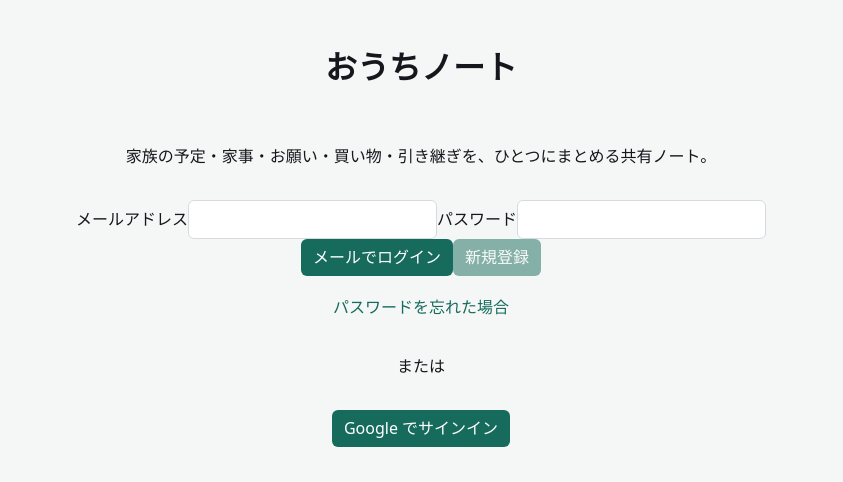
SignIn email/password auth › explains invalid_credentials without advancing the signed-in screen
The width and height of the screenshot is (843, 482).
In the field labelled "メールアドレス": (312, 220) [188,200,437,239], type "mama@example.com"
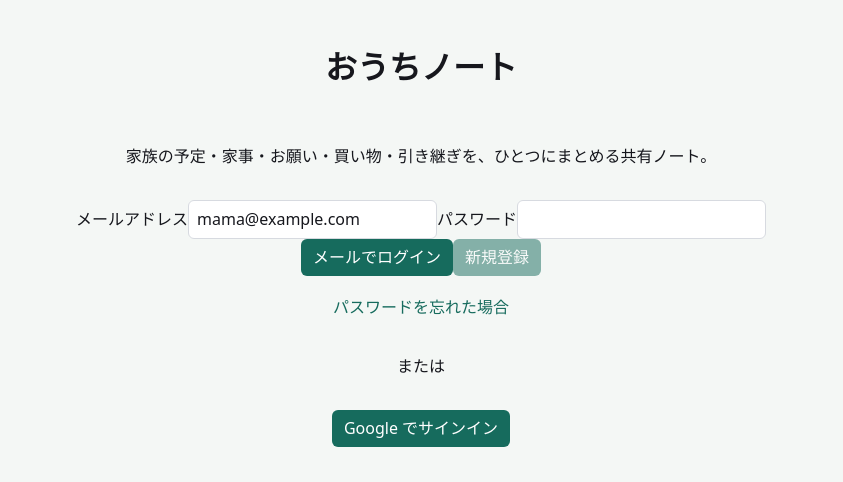
In the password field labelled "パスワード": (642, 220) [517,200,766,239], type "secret12"
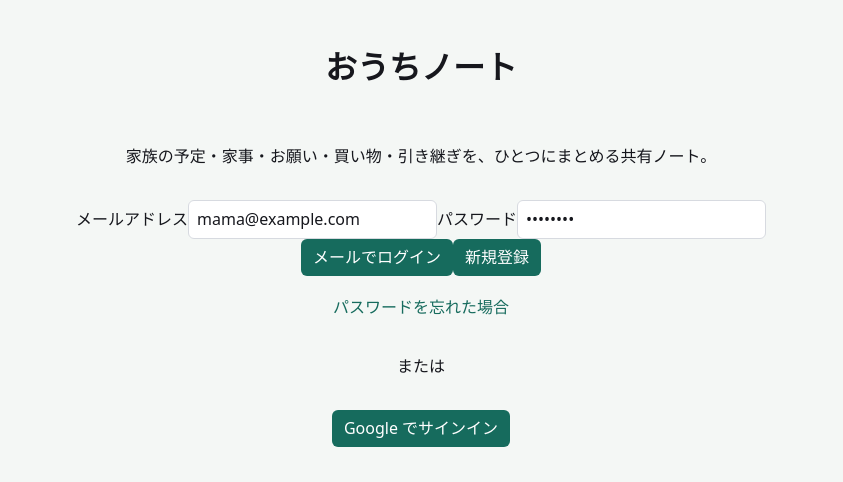
Click the button "メールでログイン": click(377, 257) [301,239,453,276]
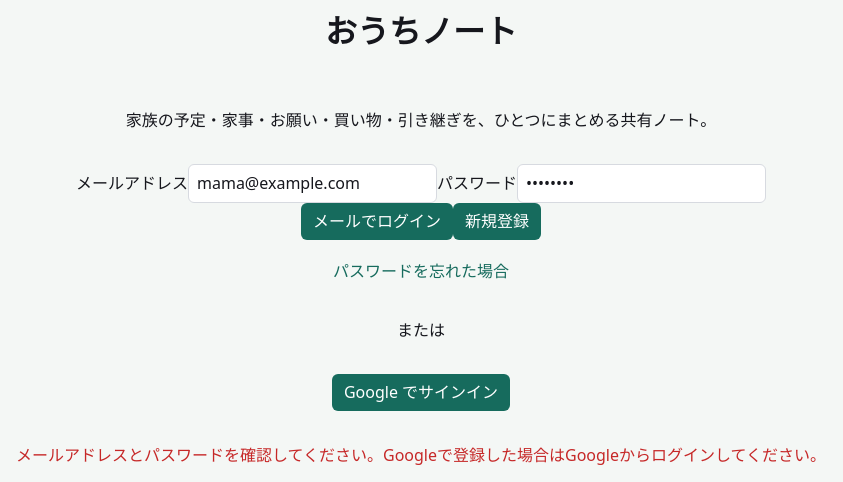
Expected: the message shows "メールアドレスとパスワードを確認してください。", [16,444,826,466]
